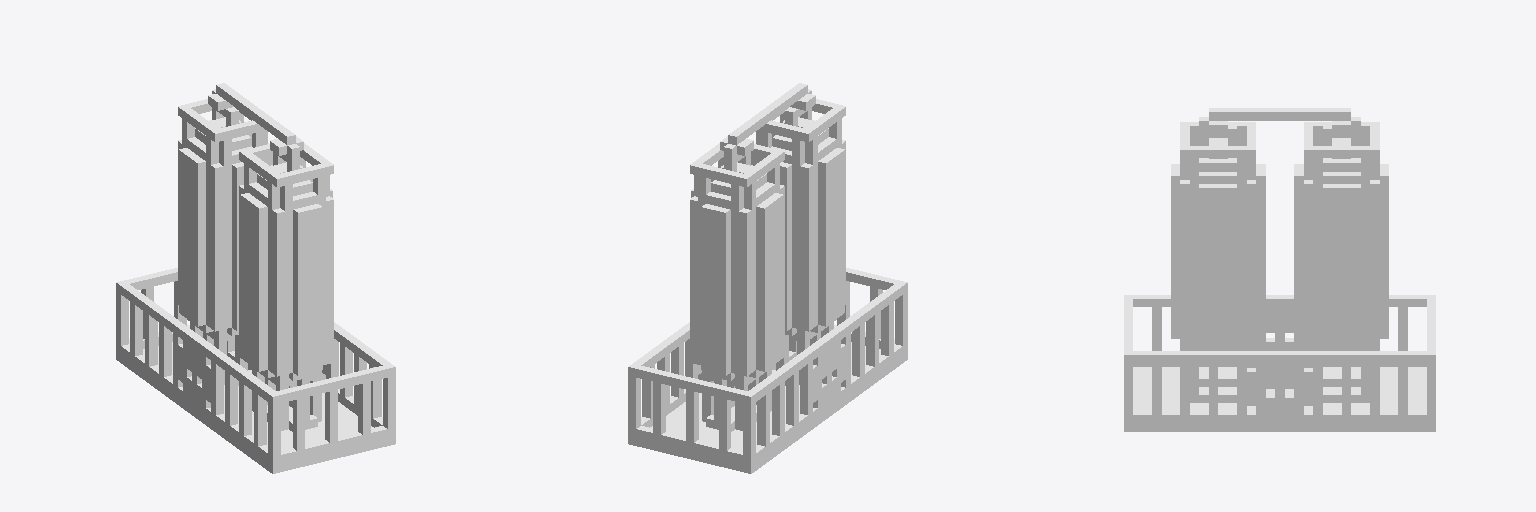
File: fuel_tanks.obj
3 renders of one model, left to right at view 1: azimuth 30°, elevation 25°; view 2: azimuth 150°, elevation 25°; view 3: azimuth 270°, elevation 25°, orthographic.
Visible parts, largest first — view 1: object 1; view 2: object 1; view 3: object 1.
Boxes of the visible parts, <box> form: object 1: <box>116,83,395,473</box>; object 1: <box>628,83,907,473</box>; object 1: <box>1124,108,1435,431</box>.
Size of the model in its own units: 1.5 by 3.4 by 3.3.